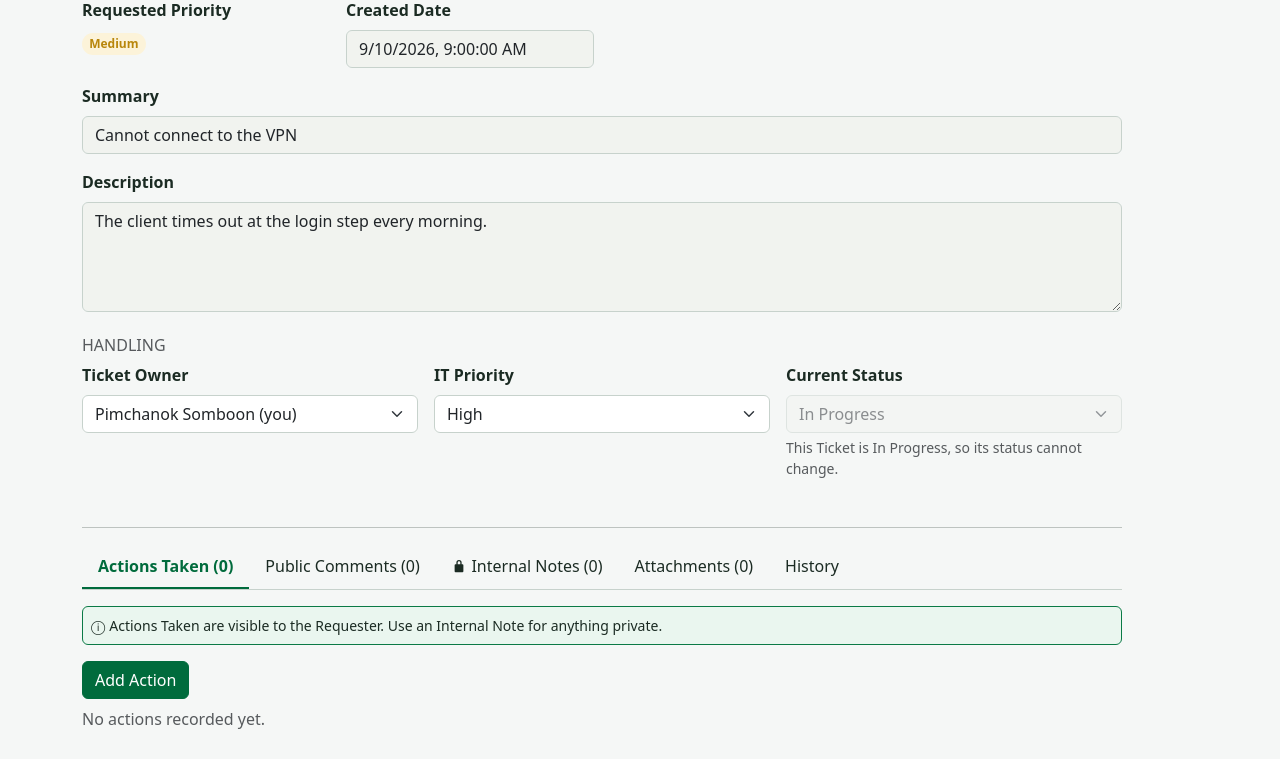
it: Add Action › on IDEMPOTENCY_KEY_REUSED keeps the typed text, shows the server's message, and sends the next save with a new key
(page scrolled)
Click the button "Add Action" at {"x": 136, "y": 680}, box x1=82 y1=661 x2=190 y2=699
(page scrolled)
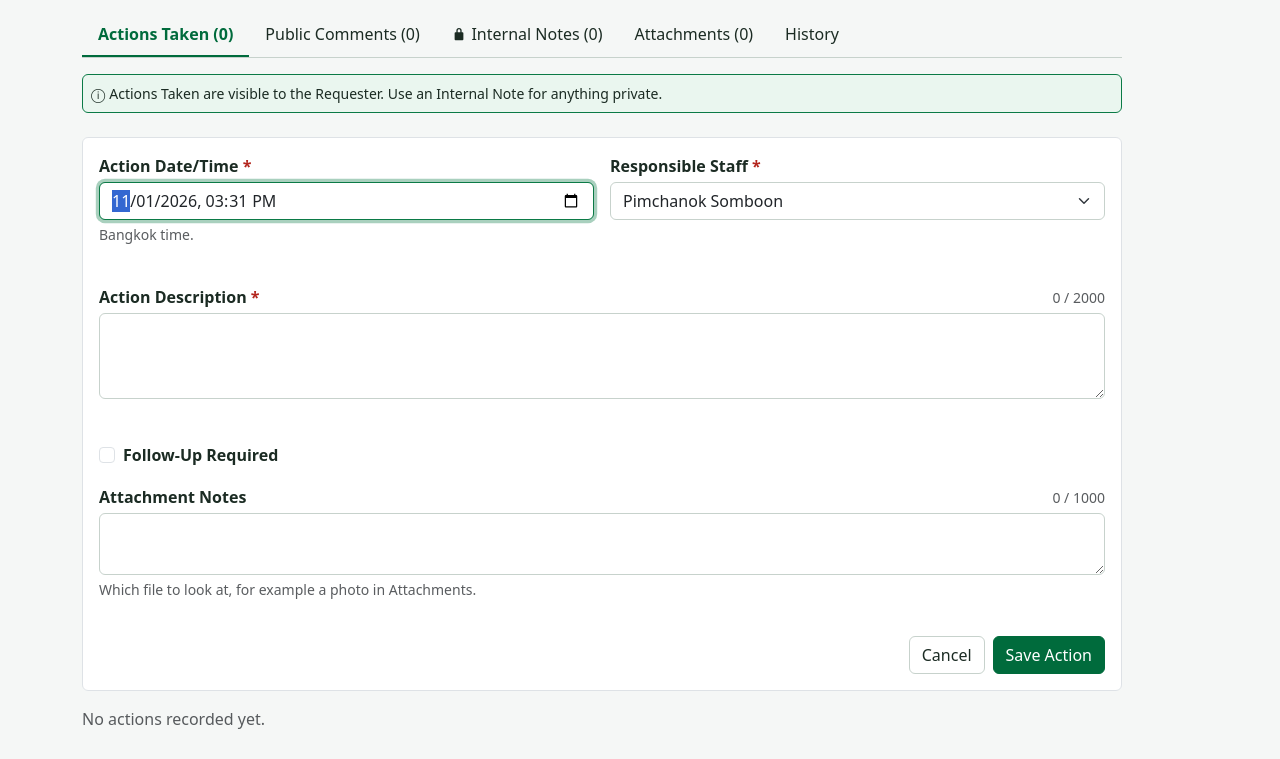
Type "Replace the cable at desk 4B." into the text box labelled "Action Description *" at {"x": 602, "y": 356}, box x1=99 y1=313 x2=1105 y2=399
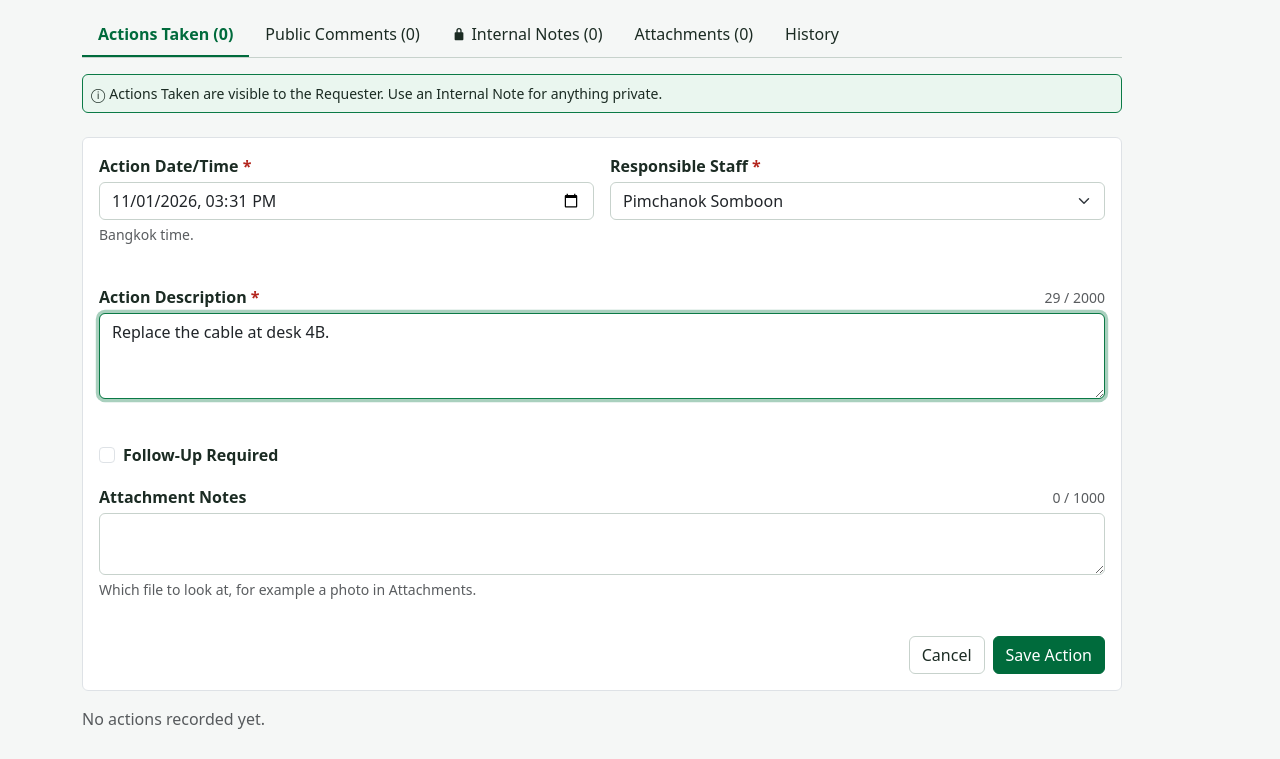
Click the button "Save Action" at {"x": 1049, "y": 655}, box x1=992 y1=636 x2=1105 y2=674
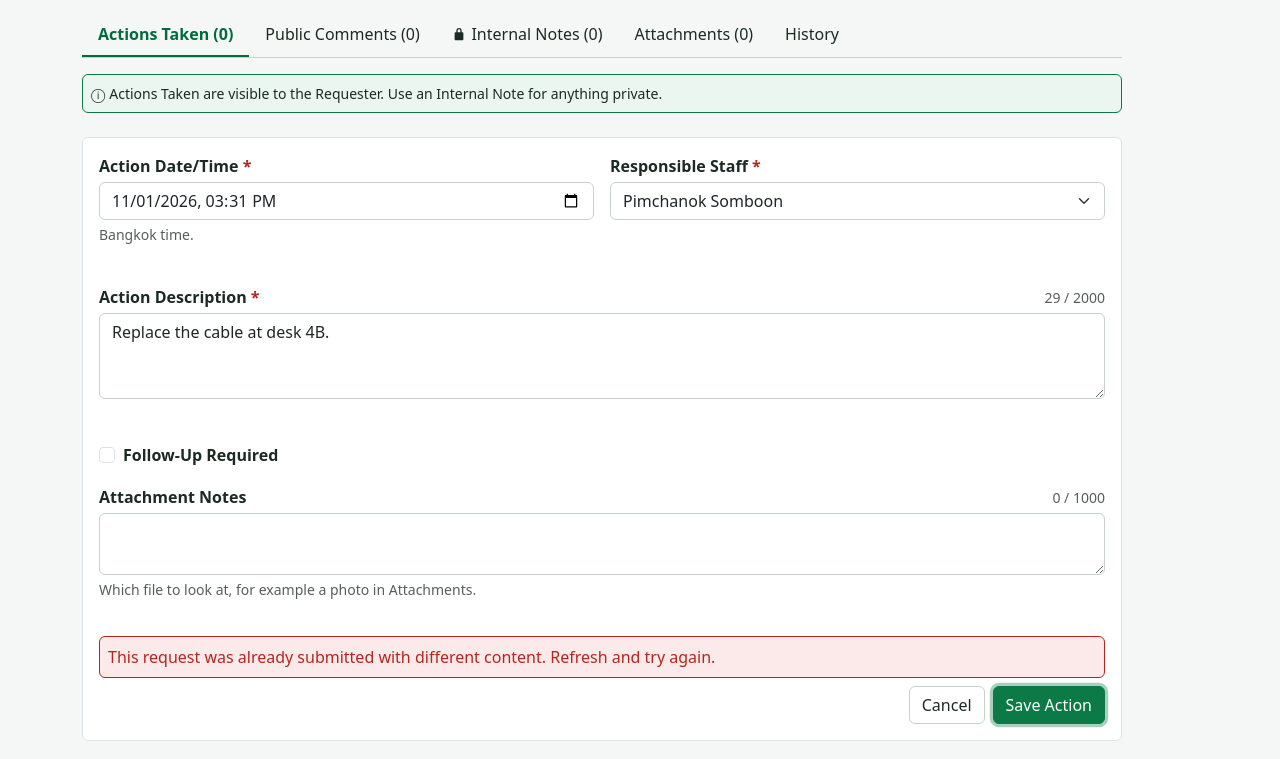
Expected: the text "This request was already submitted with different content. Refresh and try again." is shown, x1=108 y1=646 x2=715 y2=668
Click the button "Save Action" at {"x": 1049, "y": 705}, box x1=992 y1=686 x2=1105 y2=724
(page scrolled)
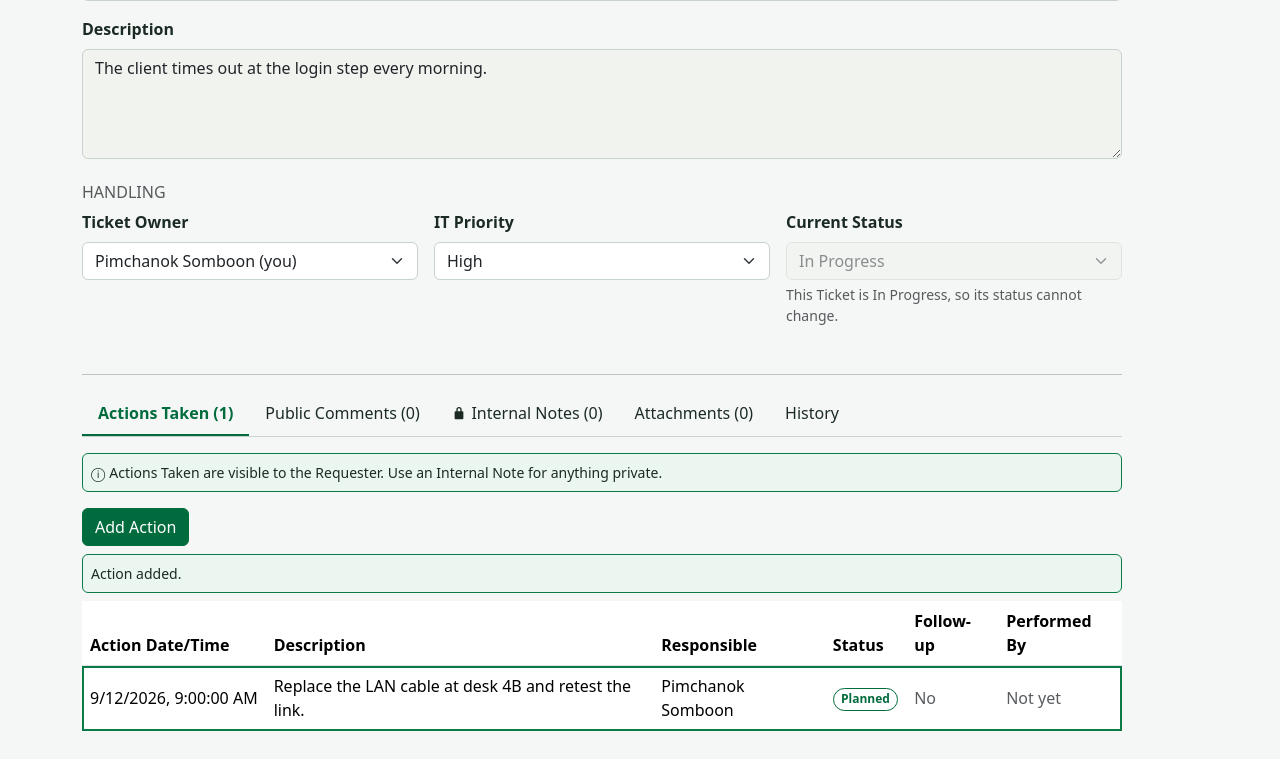
Expected: the text "Action added." is shown, x1=82 y1=554 x2=1122 y2=593
